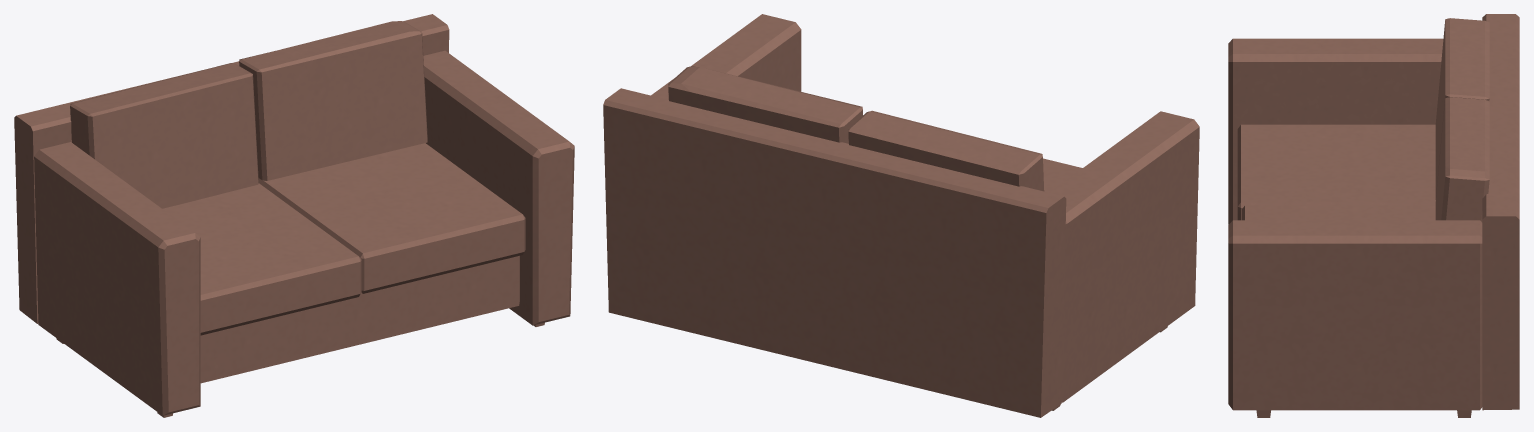
The model's file is 10_couch_red_destructible.glb.
3 renders of one model, left to right at view 1: azimuth 30°, elevation 25°; view 2: azimuth 150°, elevation 25°; view 3: azimuth 270°, elevation 25°, orthographic. The views are drawn at different scales.
Parts seen in each view (by area): view 1: Intact_Mesh; view 2: Intact_Mesh; view 3: Intact_Mesh.
Part boxes in pixels (x1,y1,x2,y2): Intact_Mesh: (14,14,574,417); Intact_Mesh: (603,14,1199,417); Intact_Mesh: (1228,14,1519,417).
Size of what is drawn, in the model's own units: 2.24 by 1.19 by 1.36.
Materials: 1 (1 with a texture image).
